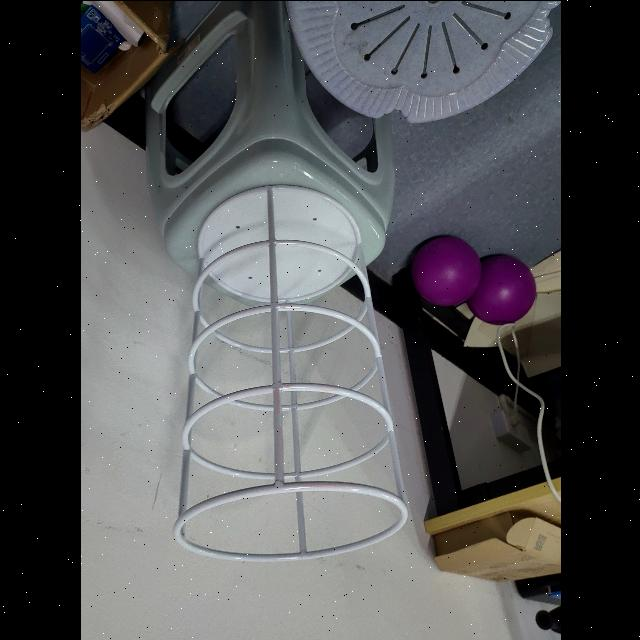S: (168, 178, 410, 566)
